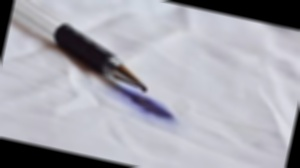ink: (120, 91, 177, 123)
